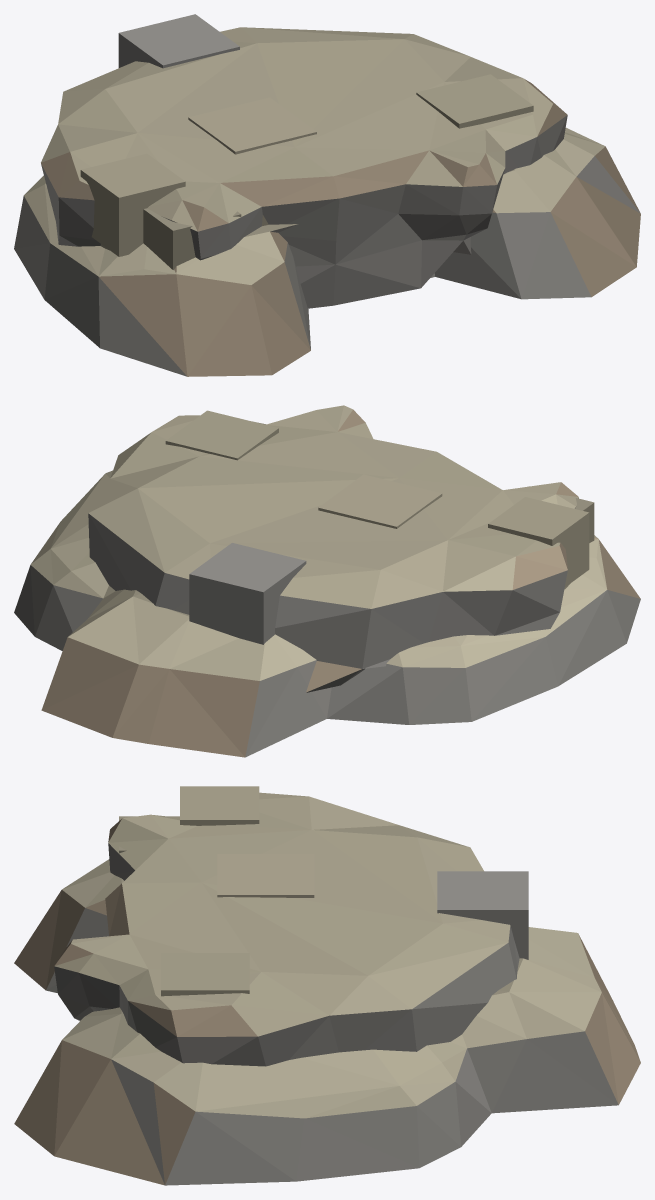
Rendered from hill_low_01c.glb.
The picture shows the model from 3 angles, top to bottom: view 1: azimuth 30°, elevation 25°; view 2: azimuth 150°, elevation 25°; view 3: azimuth 270°, elevation 25°; orthographic projection. The views are drawn at different scales.
Visible parts, largest first — view 1: mapa.terreno.colina.env_hill_low_01c; view 2: mapa.terreno.colina.env_hill_low_01c; view 3: mapa.terreno.colina.env_hill_low_01c.
Boxes of the visible parts, box(x1,y1,x2,y2) form: mapa.terreno.colina.env_hill_low_01c: box(14, 14, 640, 376); mapa.terreno.colina.env_hill_low_01c: box(14, 405, 640, 757); mapa.terreno.colina.env_hill_low_01c: box(14, 786, 640, 1185).
Bounding box in the file's own units: 6.04 × 1.62 × 5.86.
